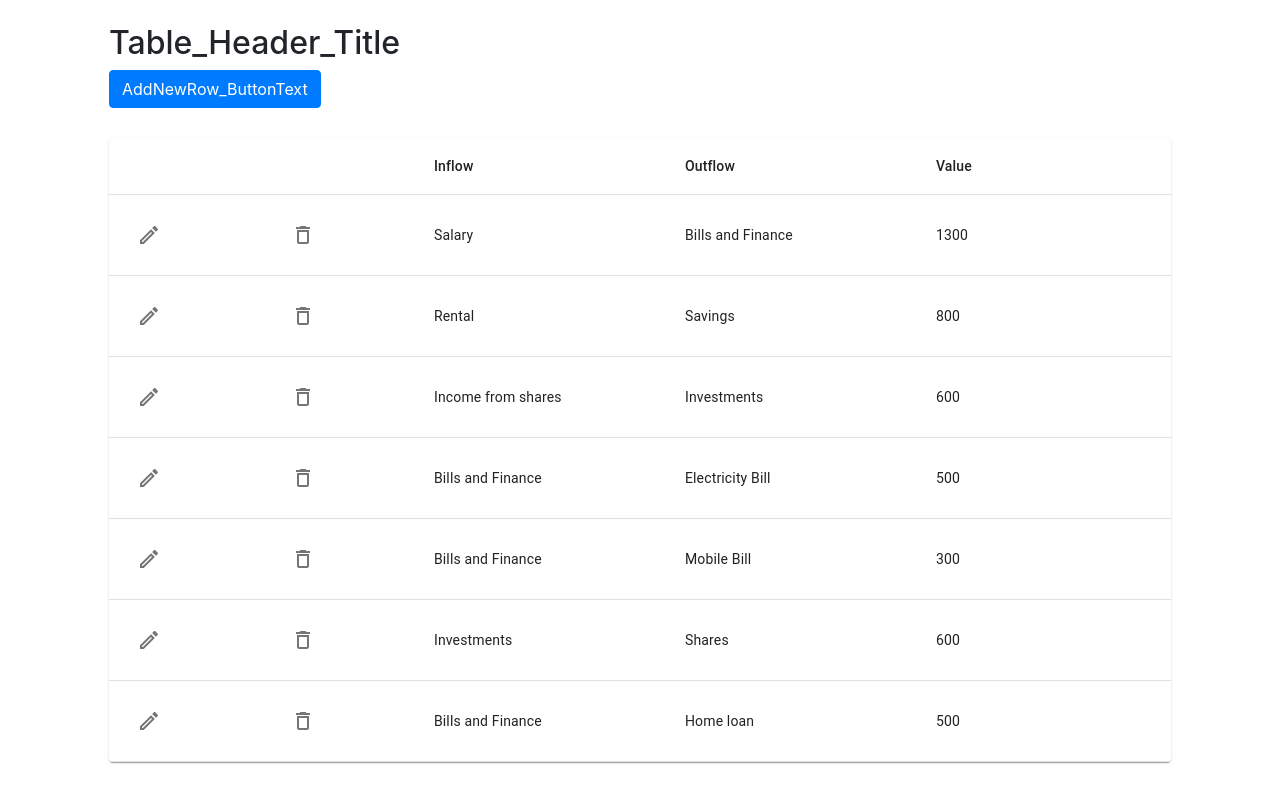
Scenario: Table component › Disable done icon for empty inflow input value
This screenshot has width=1280, height=800.
Click the 1st button with test id "editInput".
click(149, 235)  # box top-left (125, 211), bottom-right (173, 259)
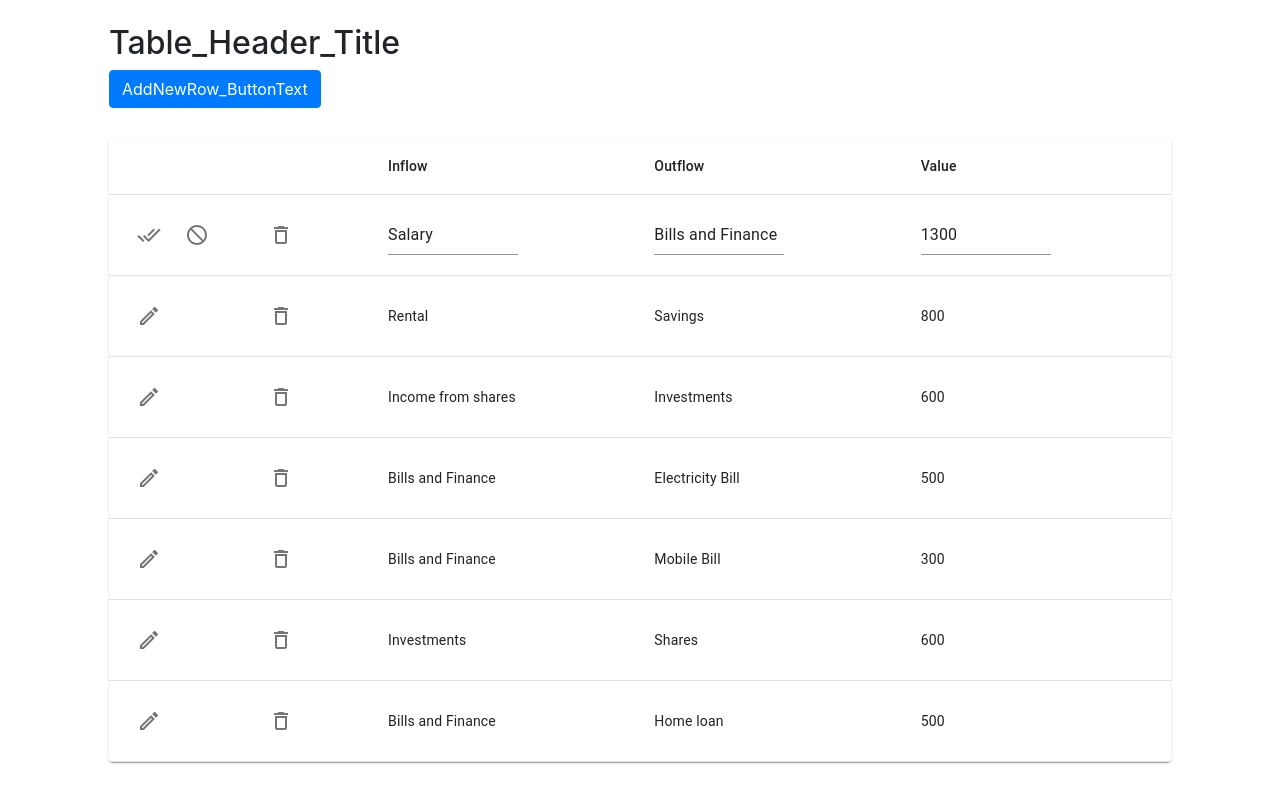
Now the number of buttons with test id "doneIcon" is 1, box top-left (125, 211), bottom-right (173, 259)
Clear the field with test id "inflow" at point(453, 235), box top-left (388, 219), bottom-right (518, 251)
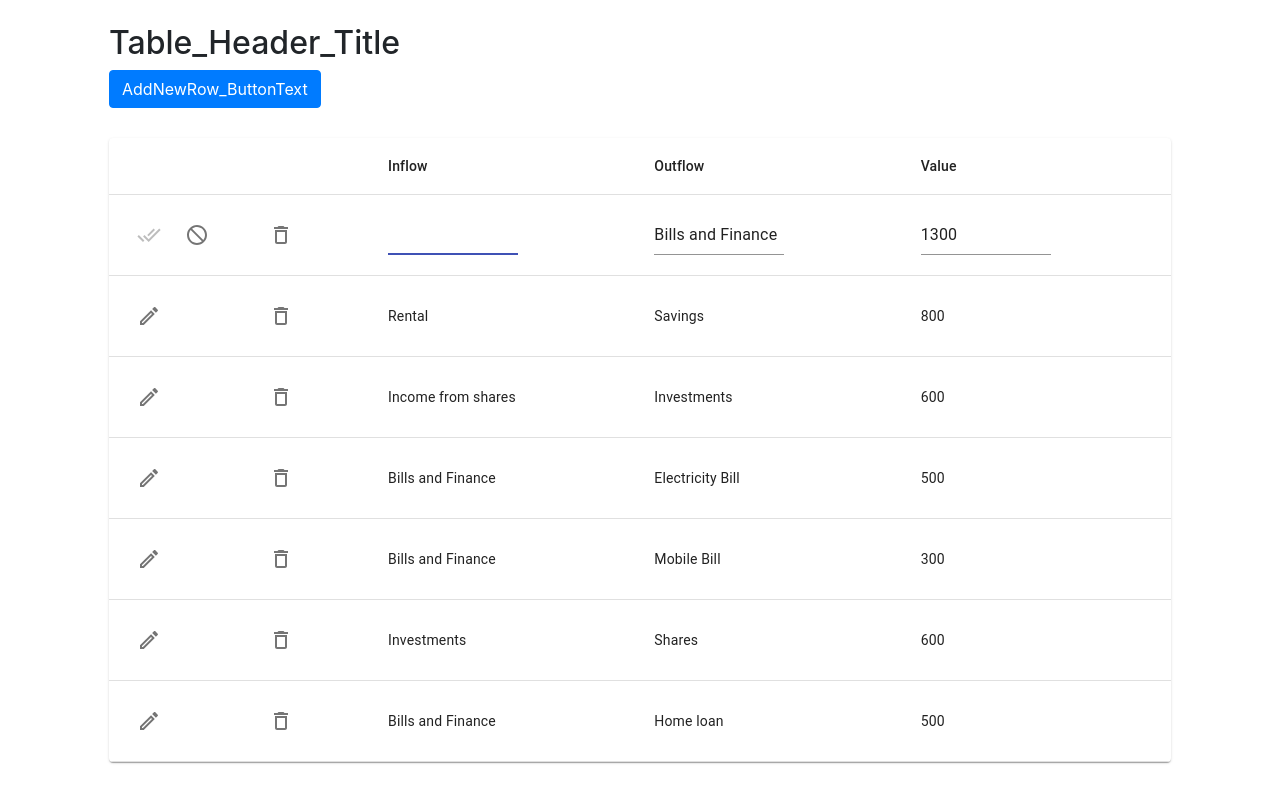
Now the button with test id "doneIcon" is disabled, box top-left (125, 211), bottom-right (173, 259)
